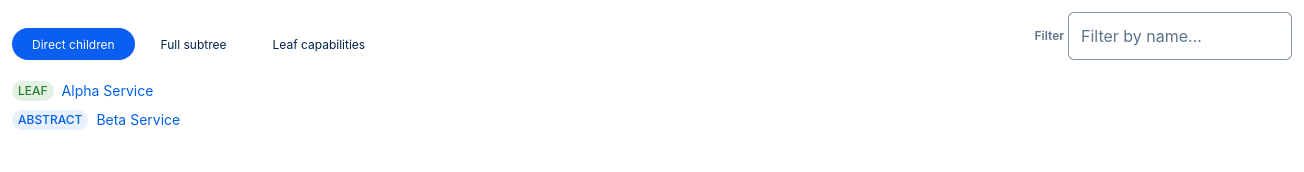
CapabilityHierarchyExplorer › filter input › clears filter and shows all children again
This screenshot has width=1304, height=172.
Type "alpha" into the search field named "filter capabilities by name" at [1180, 36], box [1068,12,1292,60]
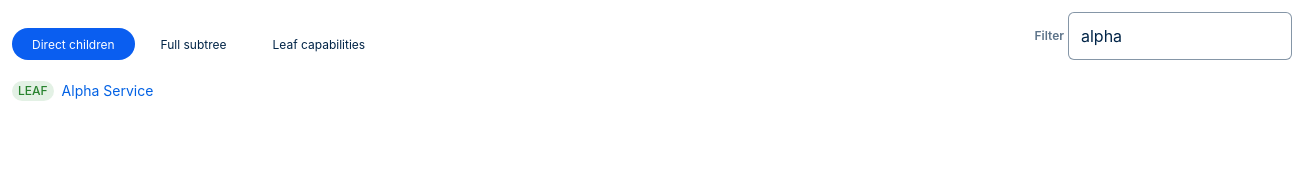
Clear the search field named "filter capabilities by name" at [1180, 36], box [1068,12,1292,60]
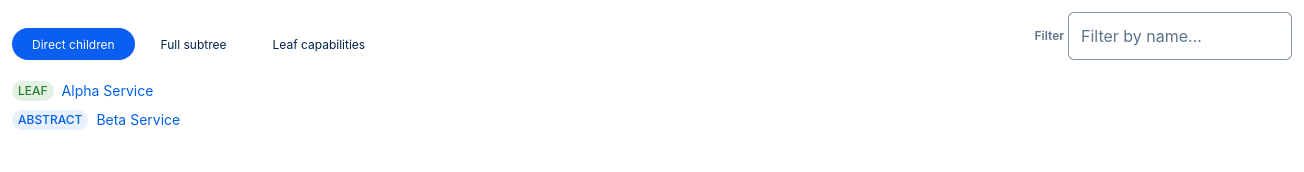
Expected: the link "Alpha Service" is shown, [62,80,153,101]
Expected: the link "Beta Service" is shown, [96,109,180,130]
